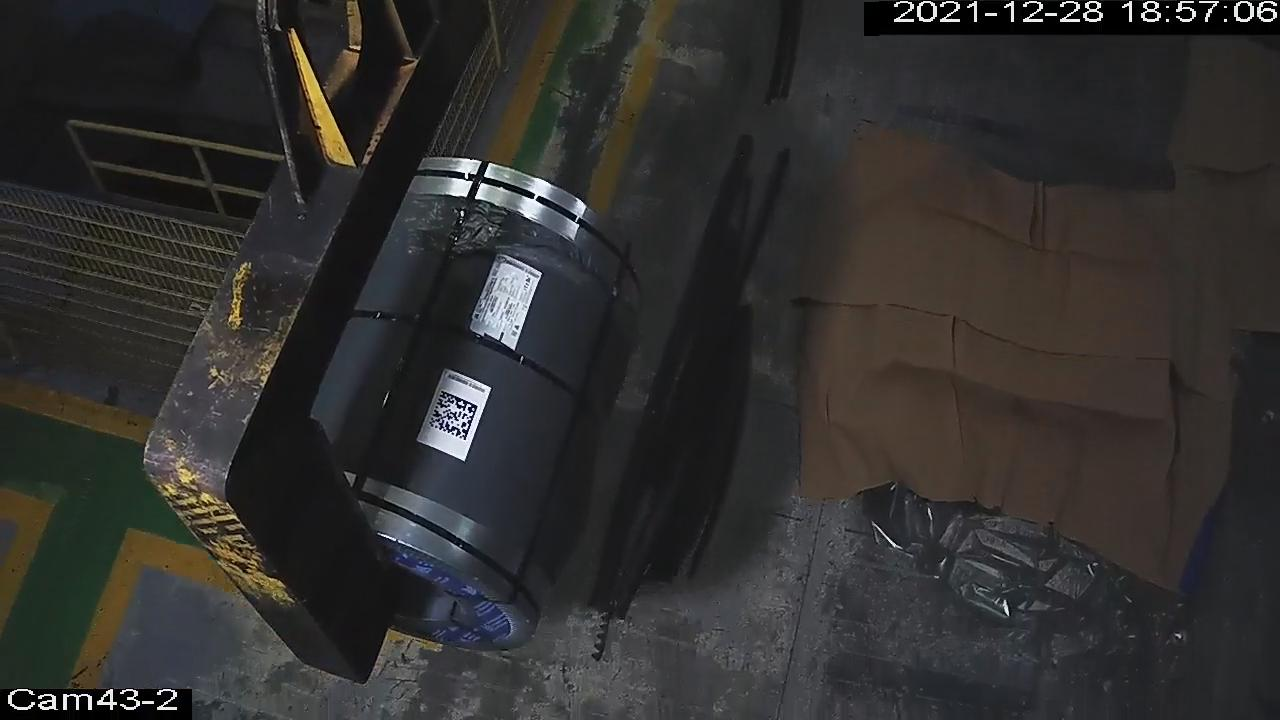data matrix: (427, 390, 480, 443)
